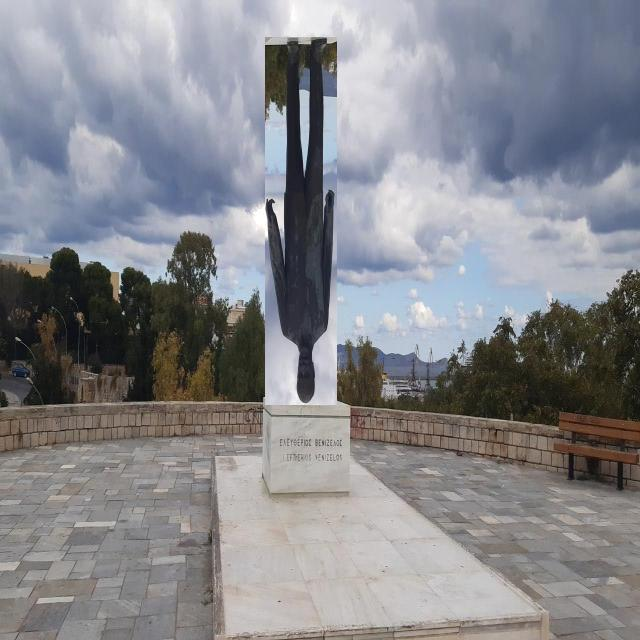Venizelos: (266, 38, 338, 406)
